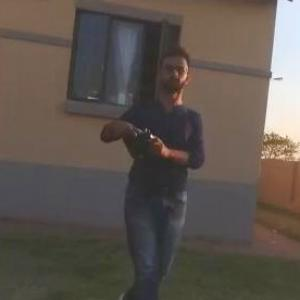follow: (94, 40, 208, 299)
